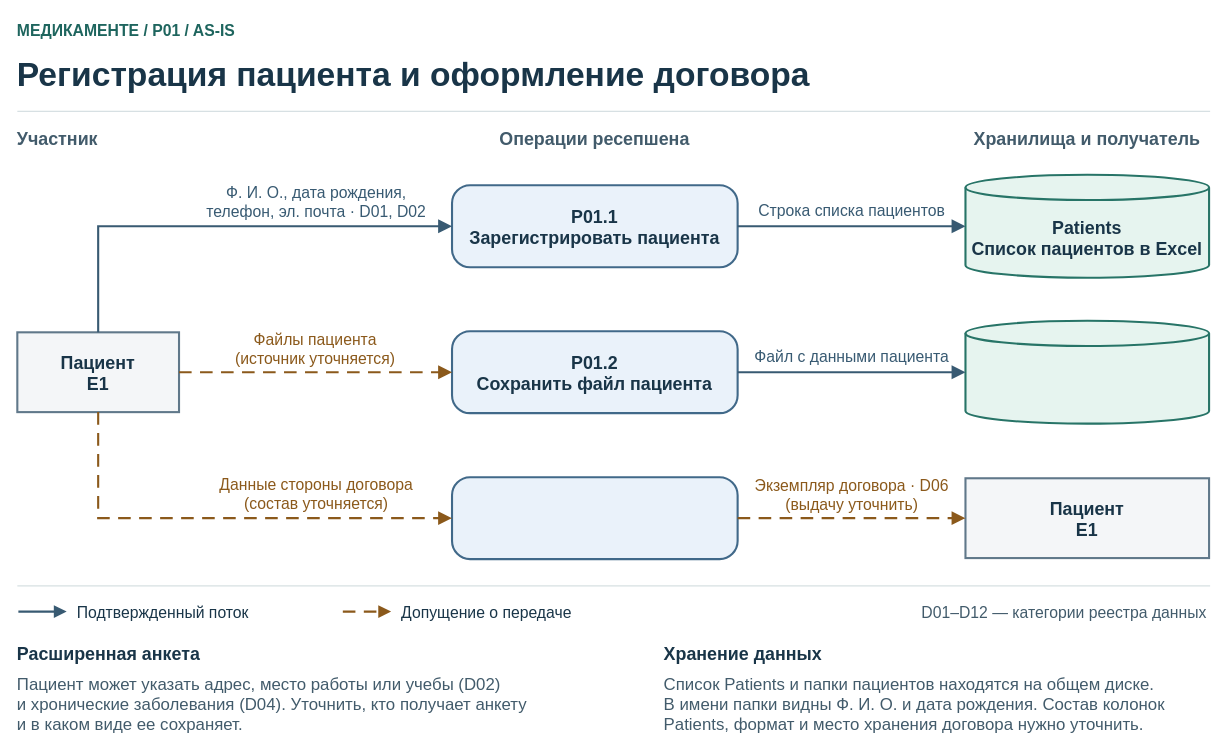
The diagram is 1232 pixels wide and 754 high, and some of its shapes have lost their labels. The shapes that lost their labels are listed below. From the top down, each one's centre as x and y in pixels, then its label:
At point (1087, 371): "Папка пациента Pacient1-FIO-BD · D12".
At point (594, 518): "P01.3 Оформить договор".
